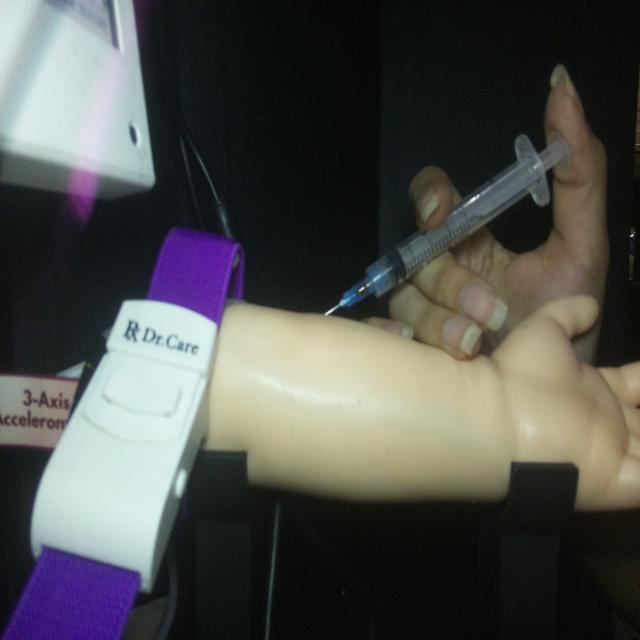26 degrees: (322, 128, 570, 319)
